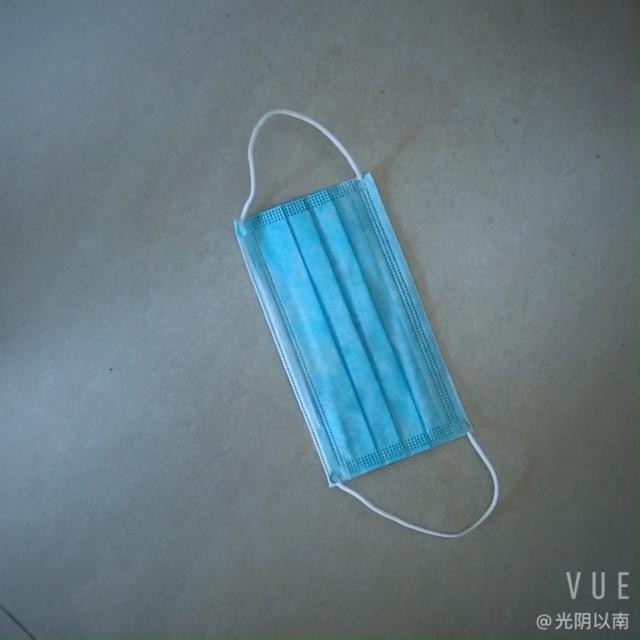non-organic waste: (234, 169, 485, 496)
